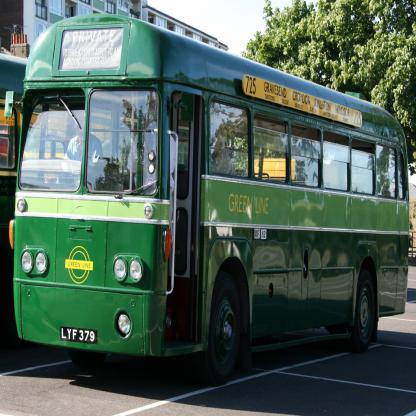Bus: (9, 14, 409, 386), (0, 53, 27, 251)
